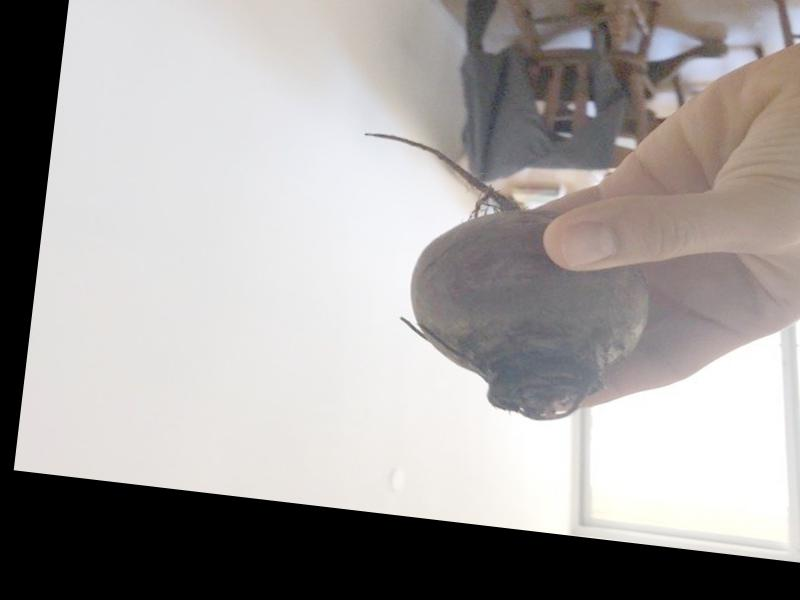Beet: (334, 131, 664, 431)
